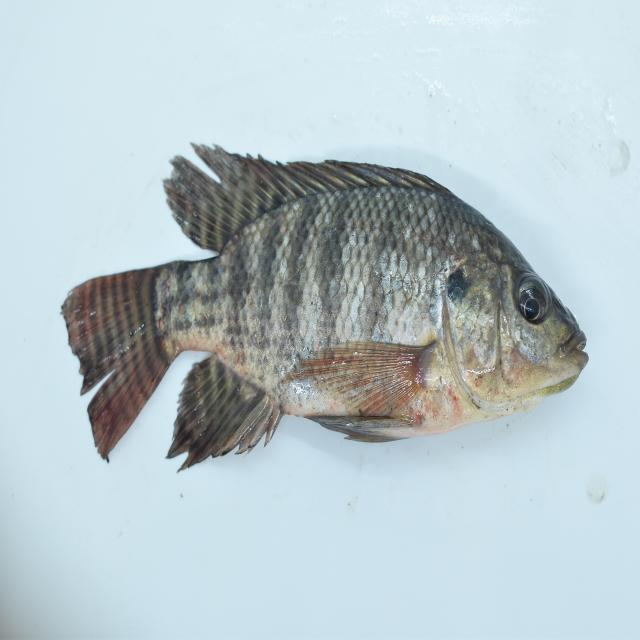Columnaris Disease: (53, 122, 594, 479)
